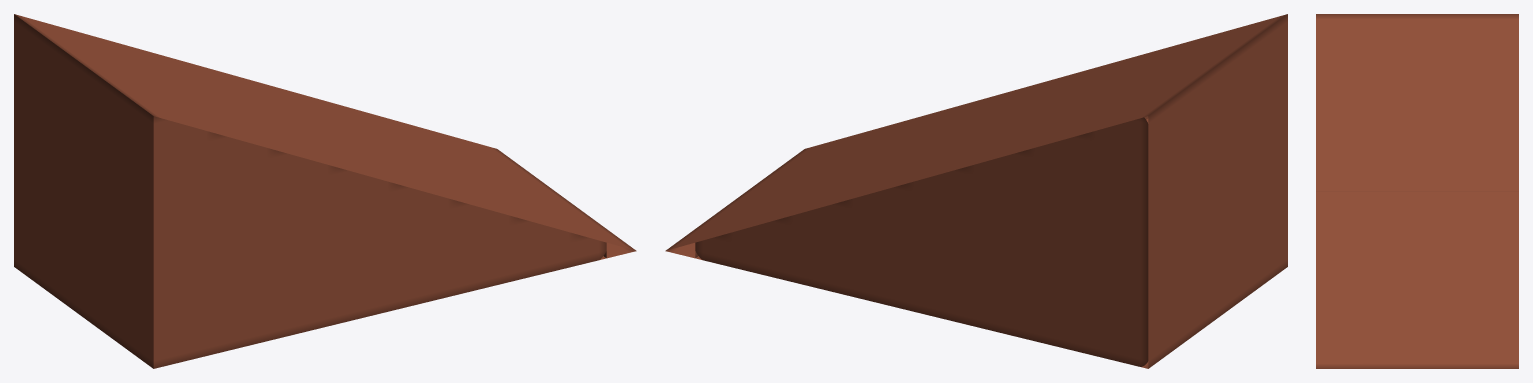
Rendered from slope.obj.
3 views of the same model, side by side, from view 1: azimuth 30°, elevation 25°; view 2: azimuth 150°, elevation 25°; view 3: azimuth 270°, elevation 25° (orthographic). The views are drawn at different scales.
Bounding box in the file's own units: 16 × 8 × 8.
Materials: 1 (1 with a texture image).
